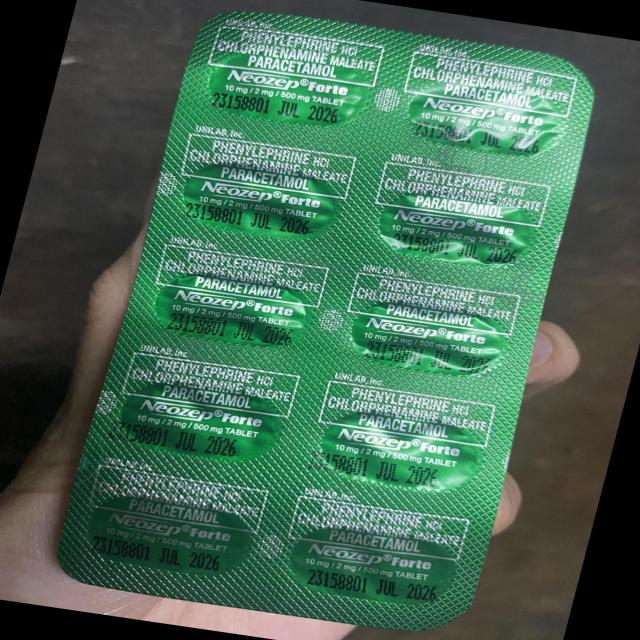Neozep_Strip: (55, 13, 601, 632)
